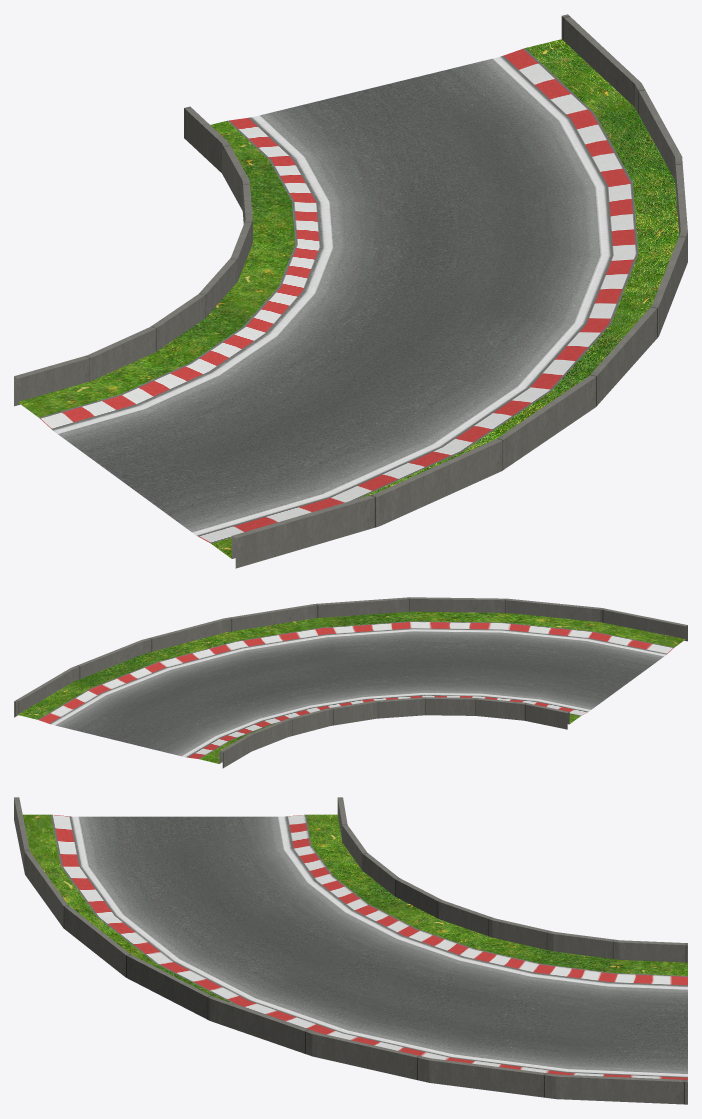
File: turn_short.fbx
3 renders of one model, top to bottom at view 1: azimuth 30°, elevation 25°; view 2: azimuth 150°, elevation 25°; view 3: azimuth 270°, elevation 25°, orthographic. The views are drawn at different scales.
Parts seen in each view (by area): view 1: 6; view 2: 6; view 3: 6.
Boxes of the visible parts, x1,y1,x2,y2 form: 6: [14, 14, 687, 568]; 6: [14, 597, 687, 768]; 6: [14, 797, 687, 1104].
Size of the model in its own units: 363 by 13.34 by 363.
